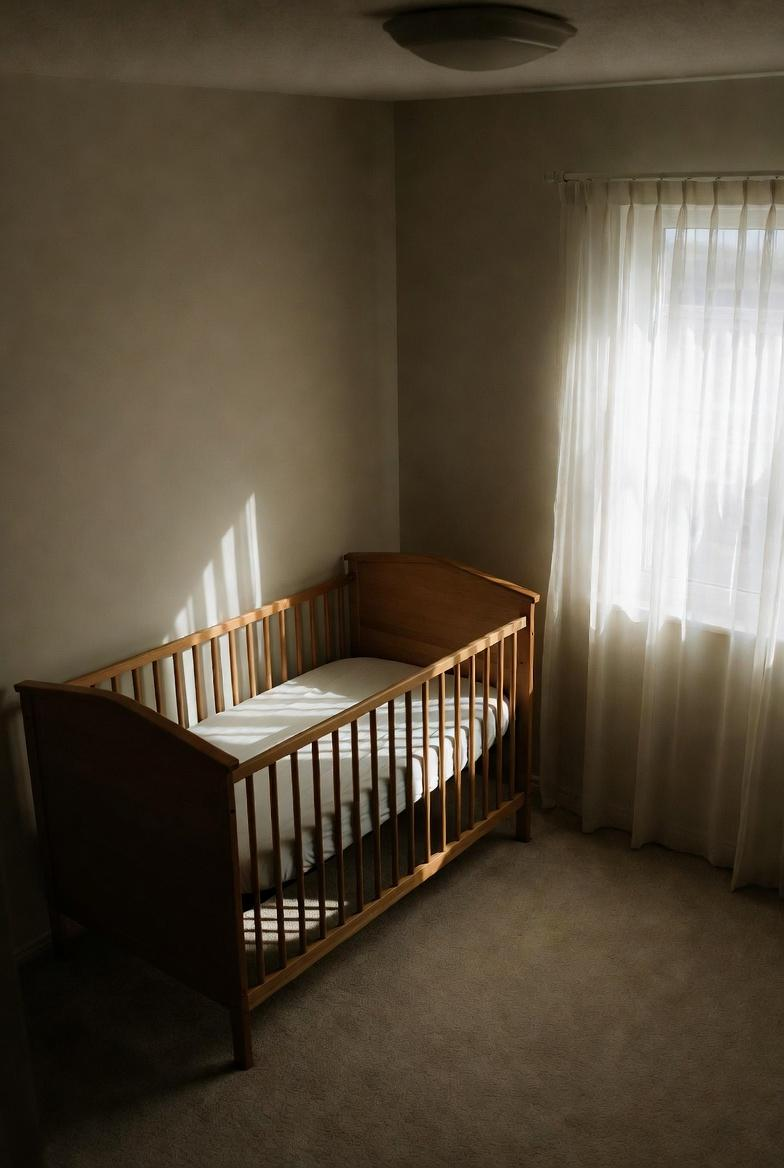crib: (0, 507, 548, 1088)
